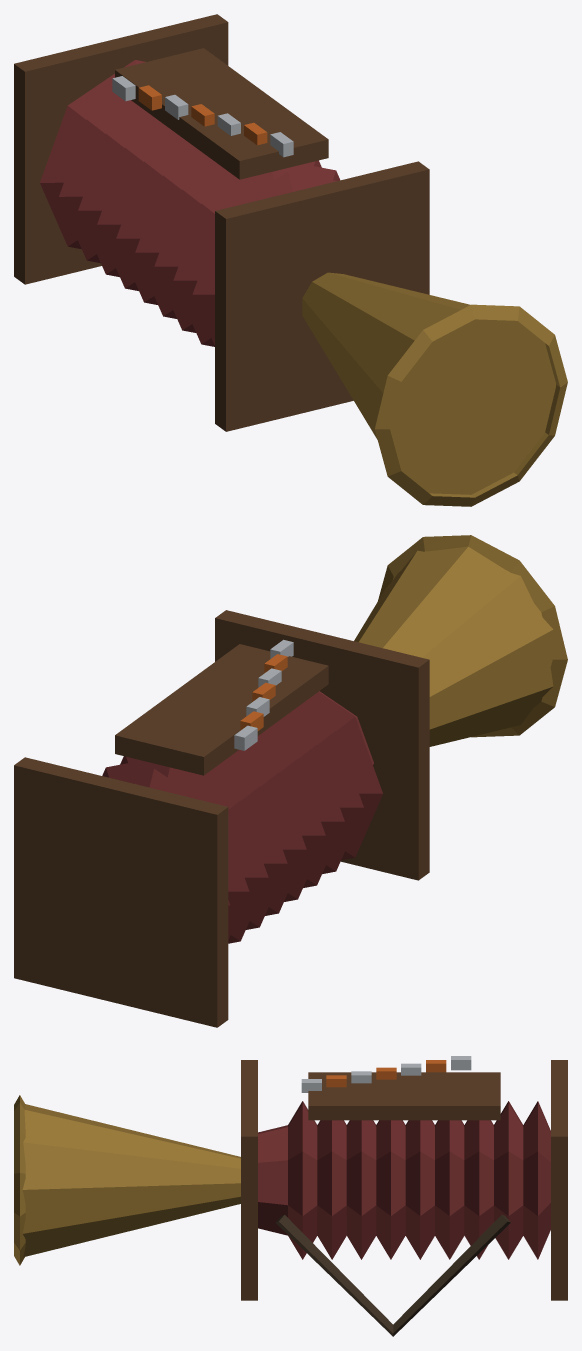
File: fizzz.glb
The picture shows the model from 3 angles, top to bottom: view 1: azimuth 30°, elevation 25°; view 2: azimuth 150°, elevation 25°; view 3: azimuth 270°, elevation 25°; orthographic projection. The views are drawn at different scales.
Parts seen in each view (by area): view 1: m; view 2: m; view 3: m.
Part boxes in pixels (box(x1,y1,x2,y2)): m: box(14, 14, 567, 506); m: box(14, 535, 567, 1027); m: box(14, 1056, 567, 1336).
Size of the model in its own units: 0.1899 by 0.2073 by 0.5.
